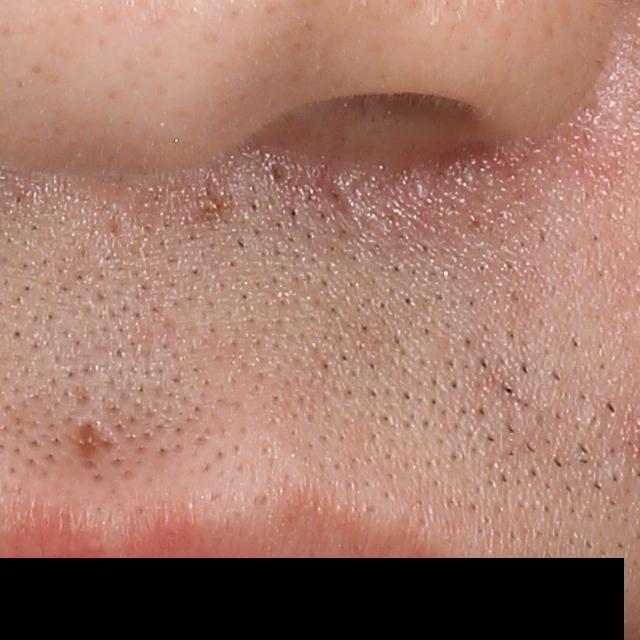atrophic_scar: (316, 169, 354, 225), (75, 416, 115, 465)
